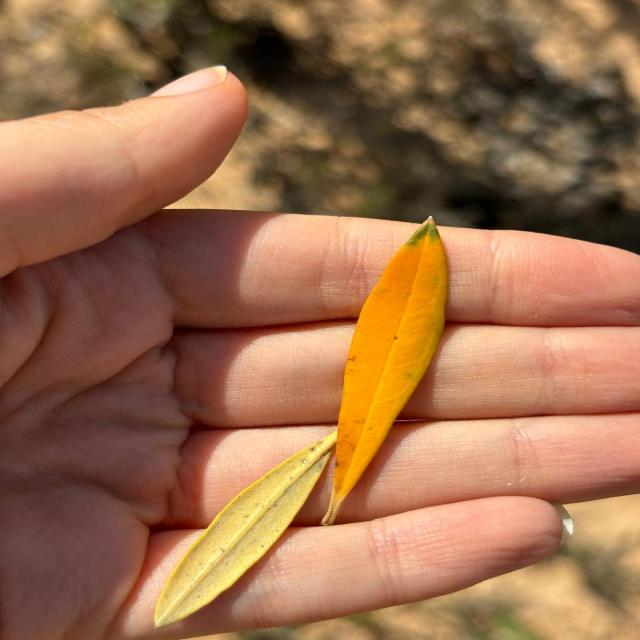Peacock Eye: (321, 218, 448, 525), (154, 430, 336, 627)
